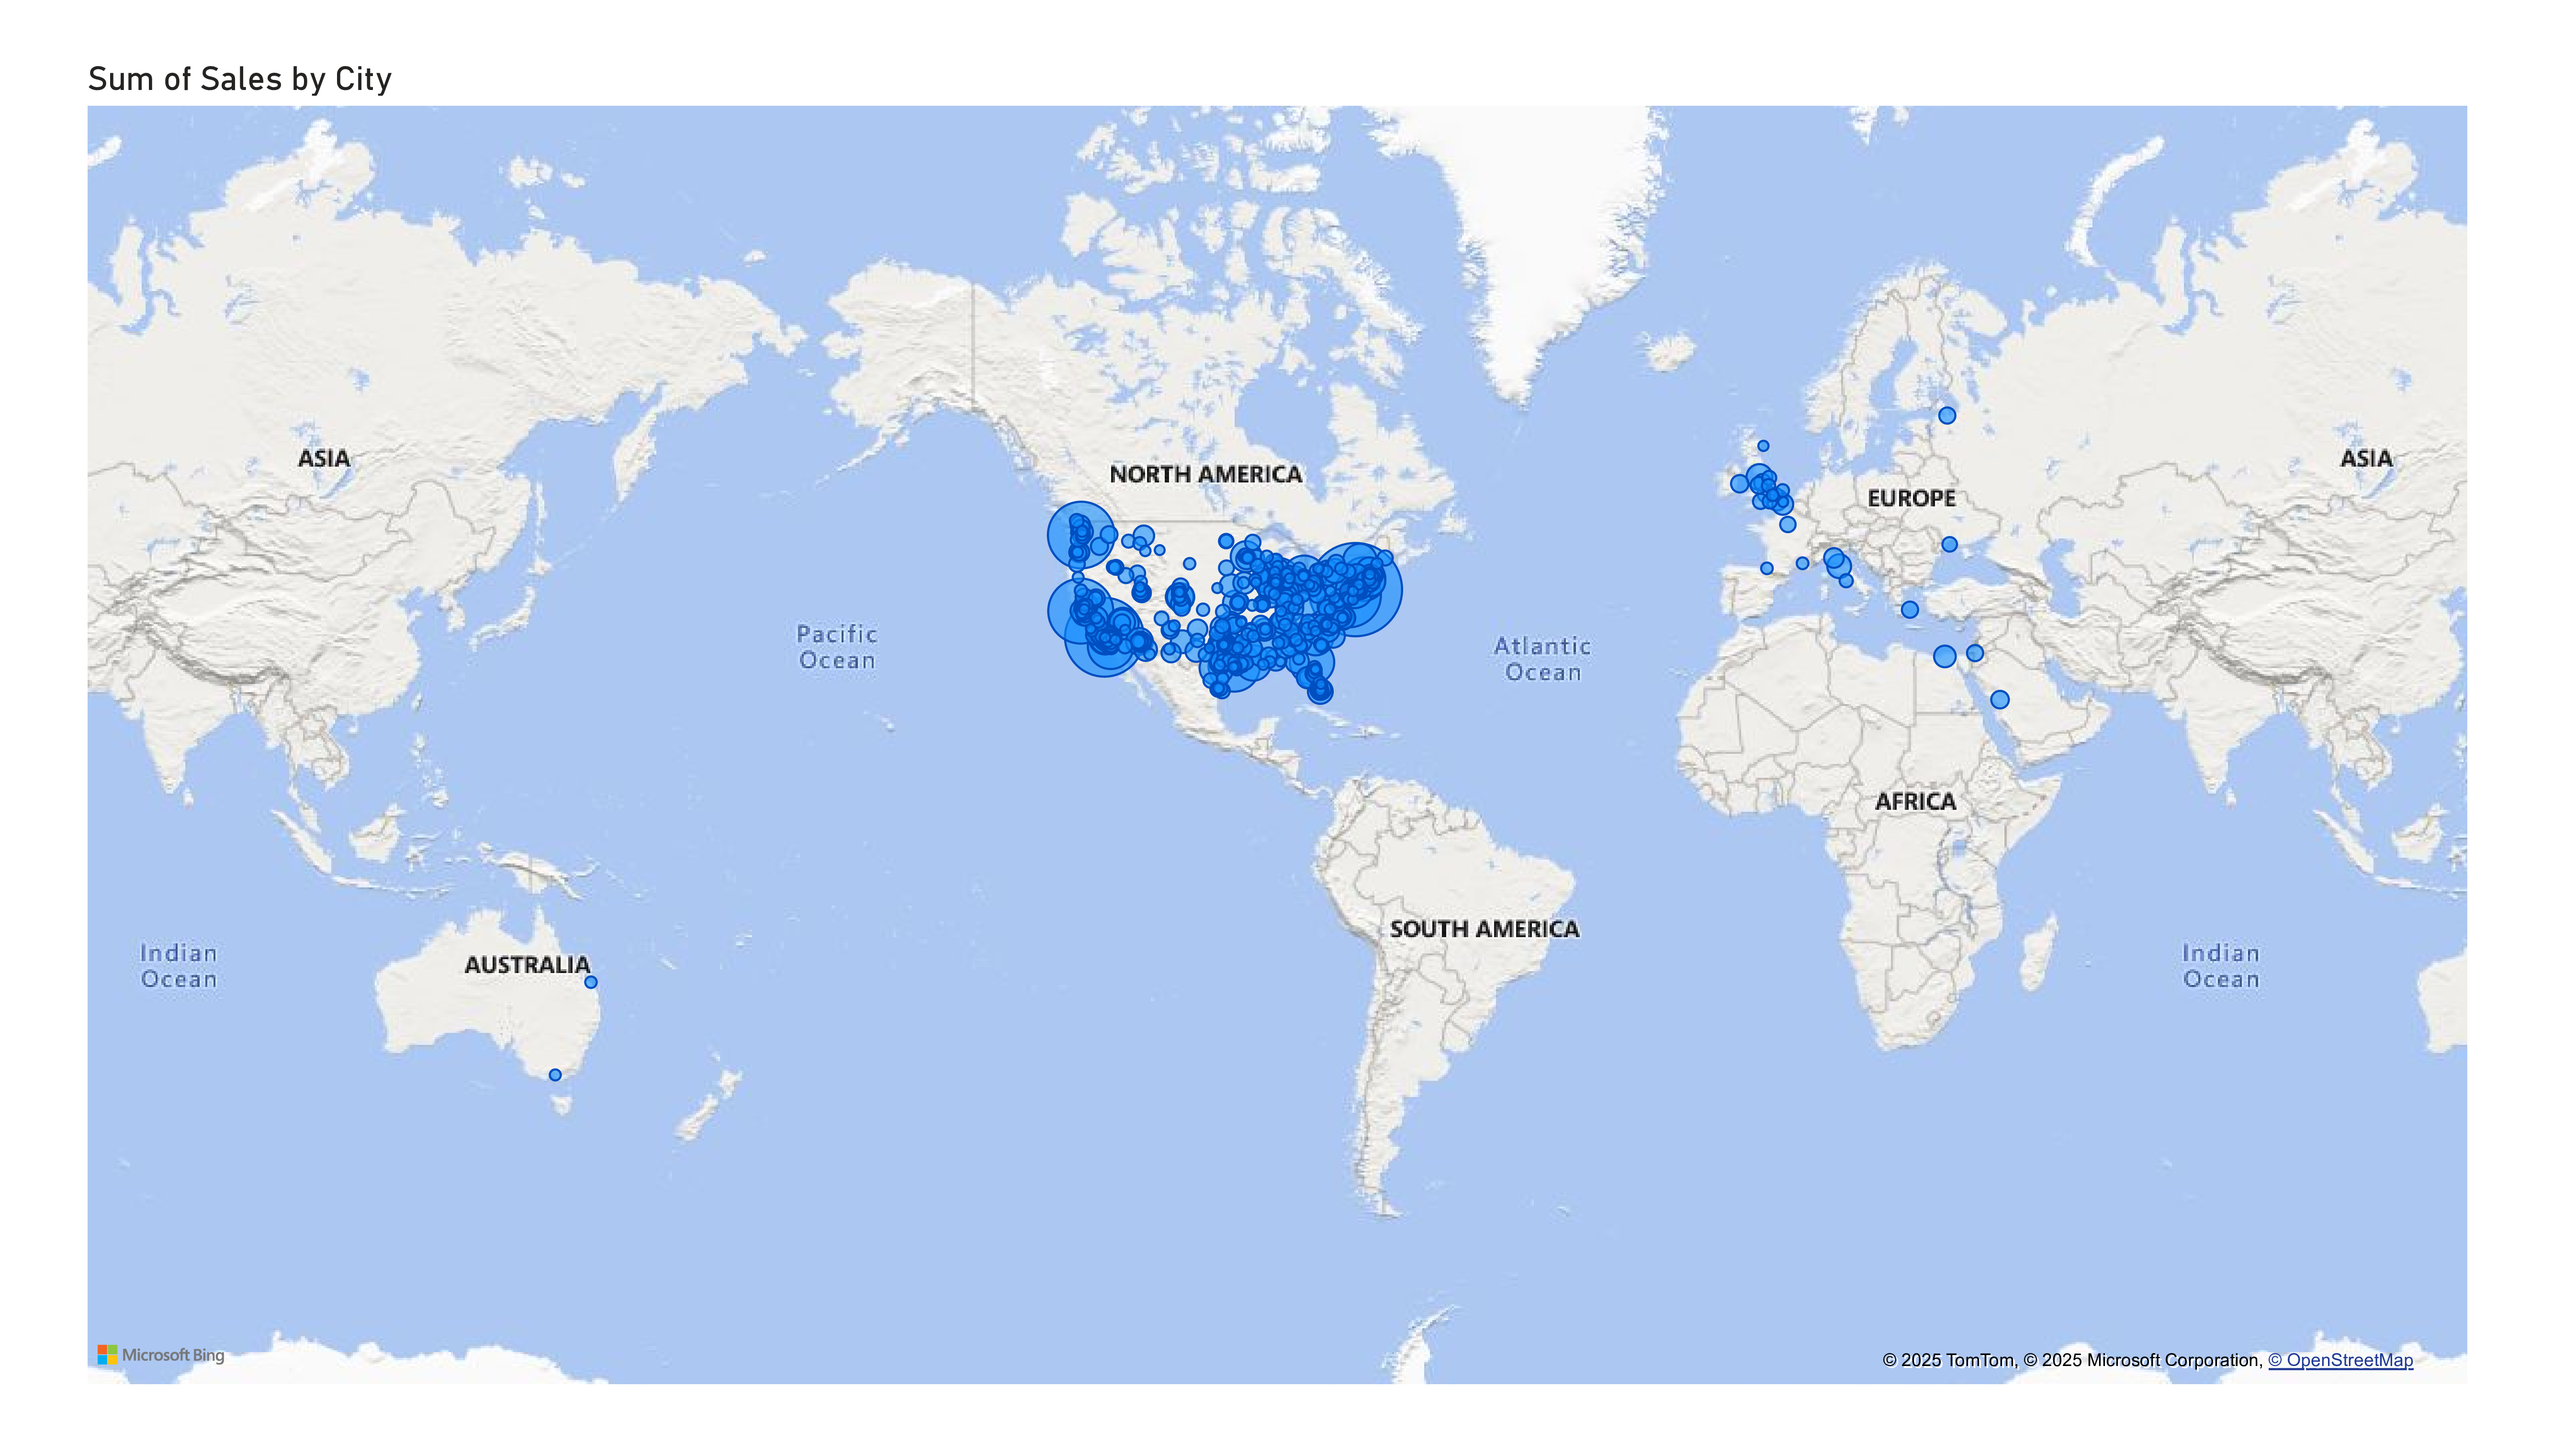

The page's visual inventory and layout, read from the dashboard file:
{"tool":"powerbi","page":{"name":"Map Visuals","canvas":[1280,720],"ordinal":9},"visuals":[{"type":"map","fields":{"Category":["Sheet1.City"],"Size":["Sum(Sheet1.Sales)"]},"box":[38.9,24.3,1203.1,670.4],"z":0}]}

Visuals, with their boxes in screenshot pixels (x1, y1, x2, y2), scaled from the page's 1280x720 canvas onto the 2553x1456 screenshot:
map - Sheet1.City x Sum(Sheet1.Sales): <bbox>78, 49, 2477, 1405</bbox>
